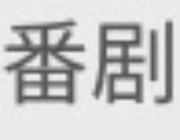TextView: (1, 1, 179, 139)
